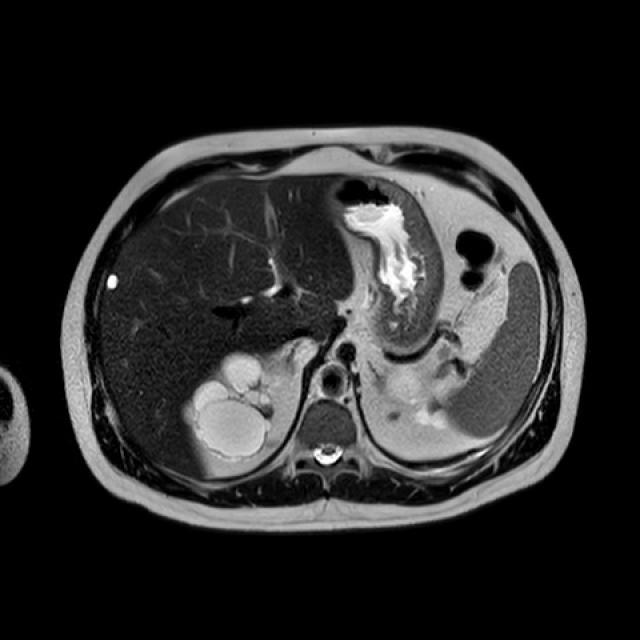sag: (183, 351, 274, 460)
sol: (385, 368, 464, 426)
